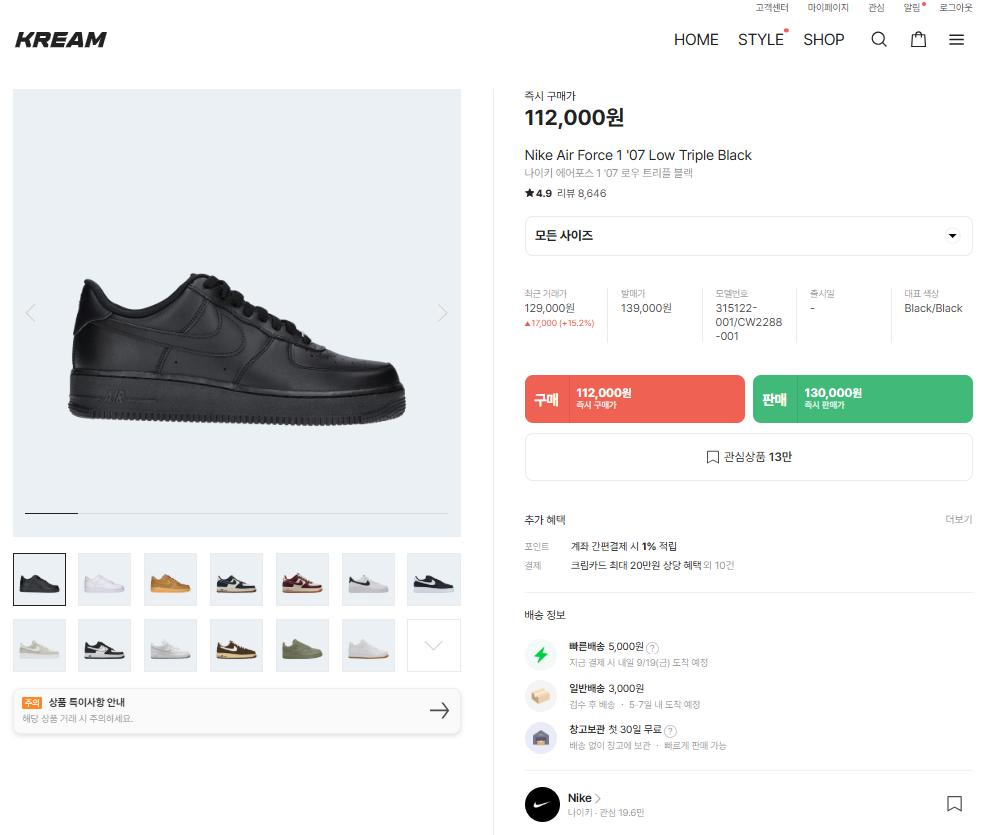button: (10, 681, 464, 737), (525, 433, 975, 479), (521, 374, 747, 426), (753, 373, 975, 423), (143, 550, 198, 608), (274, 617, 329, 675), (341, 550, 396, 608), (407, 616, 462, 674), (13, 550, 67, 608), (77, 550, 131, 608), (144, 616, 198, 674), (209, 617, 263, 675), (208, 551, 262, 609), (274, 551, 328, 609), (342, 616, 396, 674), (407, 550, 461, 608), (79, 617, 133, 675), (13, 616, 67, 673), (664, 29, 724, 54), (734, 28, 788, 54), (938, 788, 978, 822), (800, 26, 850, 51), (942, 26, 973, 55), (865, 25, 895, 54), (939, 508, 976, 531), (804, 1, 854, 17), (904, 26, 932, 54), (936, 0, 978, 18), (752, 1, 794, 17), (863, 0, 890, 18), (900, 1, 929, 17)
checkbox: (523, 209, 978, 261)
